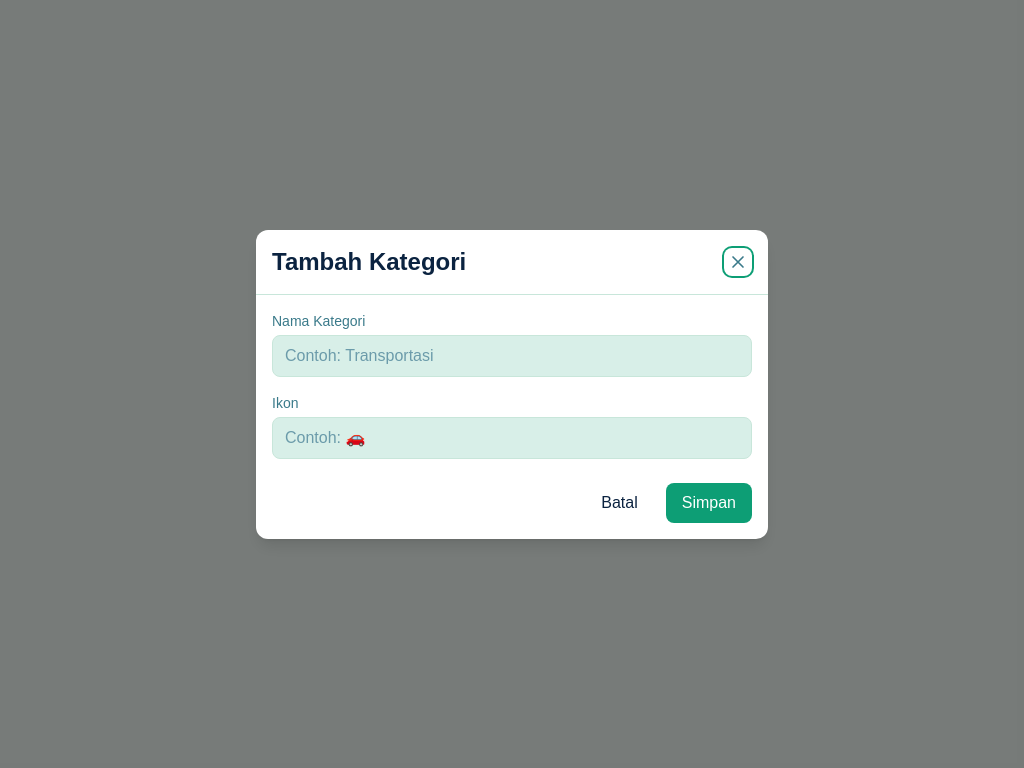
Test: CategoryForm › shows error when icon is empty
Type "Test" into the field labelled "Nama Kategori" at (512, 356), box [272,334,752,376]
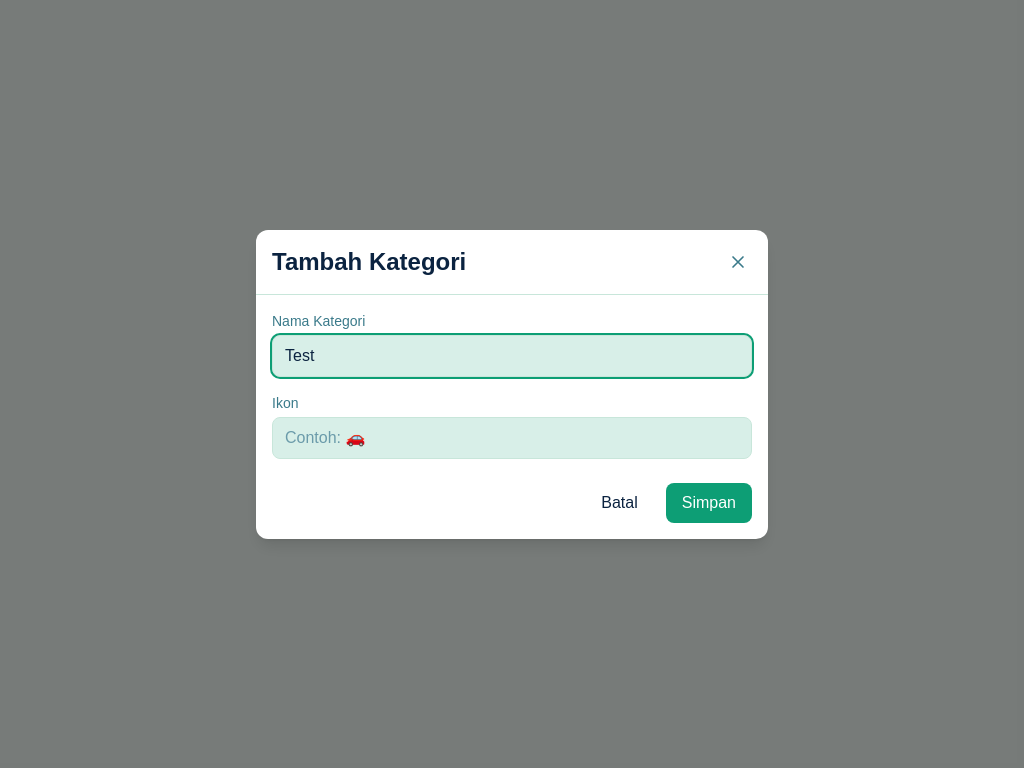
Click the button "Simpan" at (709, 502), box [666,482,752,522]
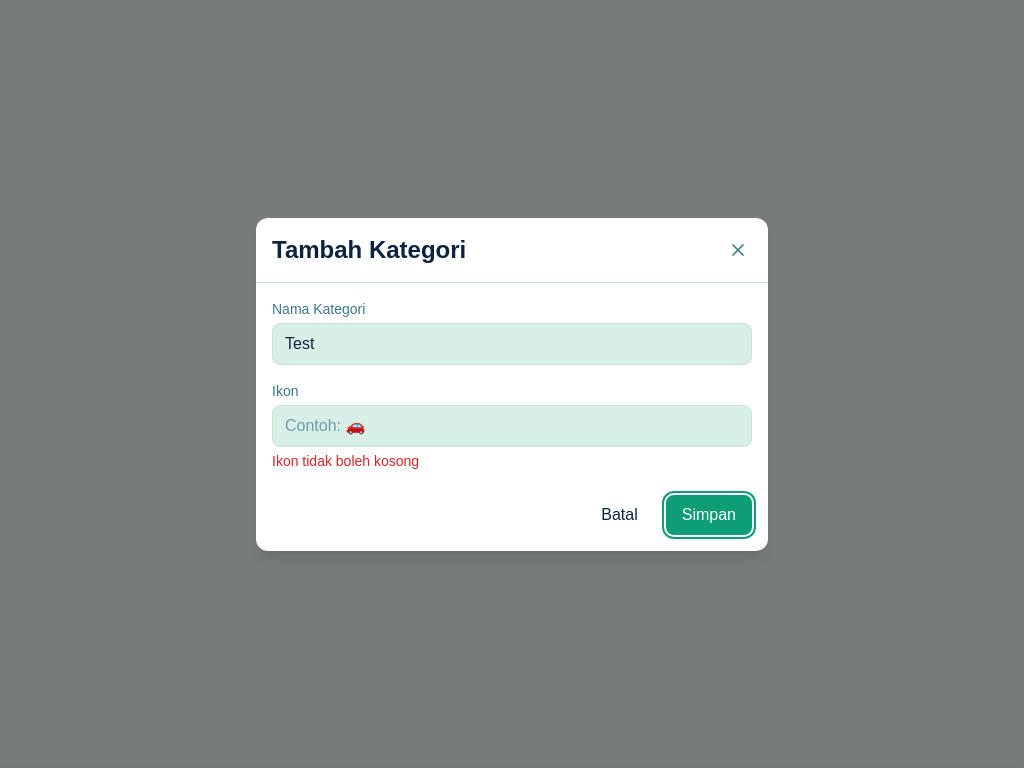
expect the text "Ikon tidak boleh kosong" is shown: met, box [272,452,419,468]
